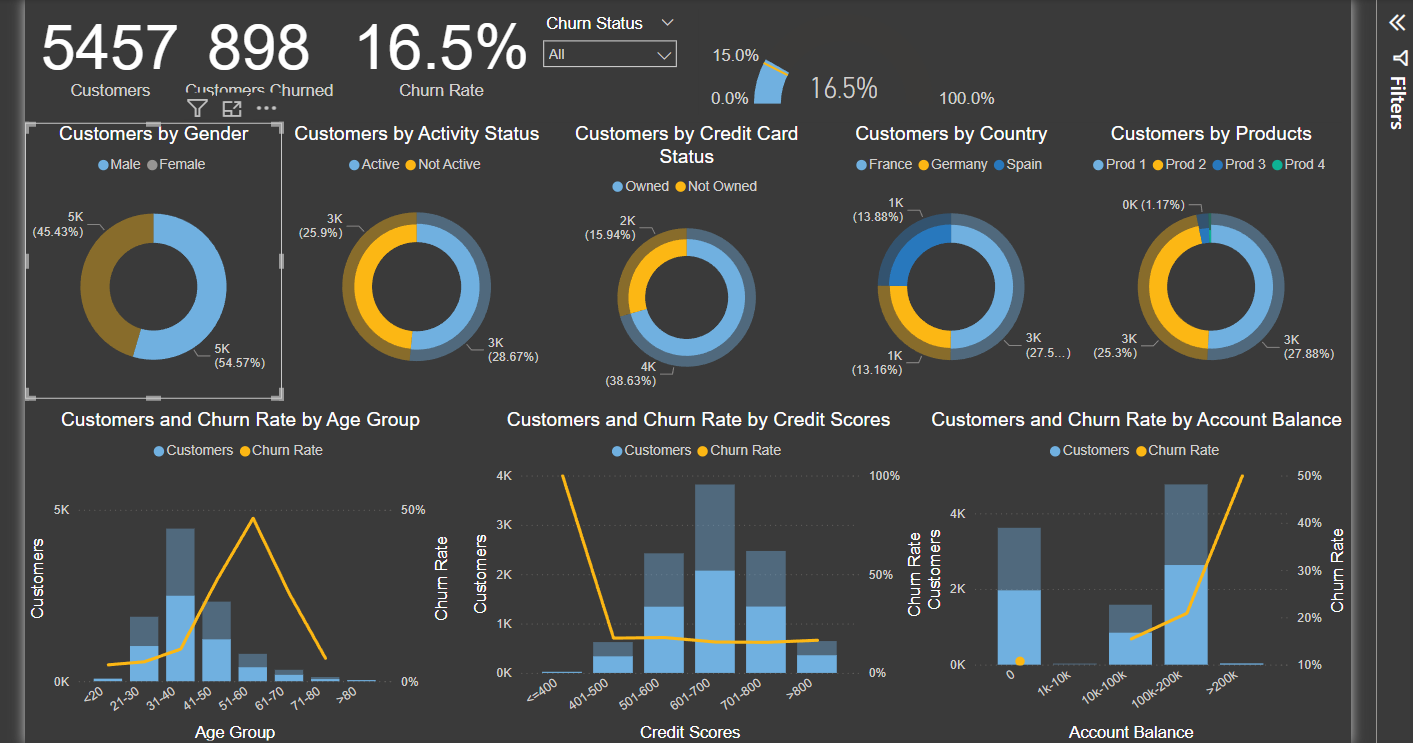

The page's visual inventory and layout, read from the dashboard file:
{"tool":"powerbi","page":{"name":"Page 1","canvas":[1280,720],"ordinal":0},"visuals":[{"type":"card","fields":{"Values":["Customer Data.Customers"]},"box":[9.8,0,145.5,101.5],"z":0},{"type":"card","fields":{"Values":["Customer Data.Customers Churned"]},"box":[146.8,0,157.8,101.5],"z":1},{"type":"card","fields":{"Values":["Customer Data.Churn Rate"]},"box":[304.6,0,193.5,101.5],"z":2},{"type":"donutChart","fields":{"Category":["Customer Data.Gender"],"Y":["Customer Data.Customers"]},"box":[0,119.4,248.4,266.2],"z":3},{"type":"donutChart","fields":{"Y":["Customer Data.Customers"],"Category":["Customer Data.Activity Status"]},"box":[248.4,119.4,259.3,266.2],"z":4},{"type":"donutChart","fields":{"Y":["Customer Data.Customers"],"Category":["Customer Data.Credit Card Status"]},"box":[509.1,119.4,259.3,266.2],"z":5},{"type":"donutChart","fields":{"Y":["Customer Data.Customers"],"Category":["Customer Data.Country"]},"box":[768.4,119.4,251.1,266.2],"z":6},{"type":"donutChart","fields":{"Y":["Customer Data.Customers"],"Category":["Customer Data.Products"]},"box":[1019.6,119.4,251.1,266.2],"z":7},{"type":"lineClusteredColumnComboChart","fields":{"Category":["Age Group ID.Age Group"],"Y":["Customer Data.Customers"],"Y2":["Customer Data.Churn Rate"]},"box":[0,395.2,415.8,325.2],"z":8},{"type":"lineClusteredColumnComboChart","fields":{"Y":["Customer Data.Customers"],"Y2":["Customer Data.Churn Rate"],"Category":["Credit Scores ID.Credit Scores"]},"box":[426.8,395.2,446,325.2],"z":9},{"type":"lineClusteredColumnComboChart","fields":{"Y":["Customer Data.Customers"],"Y2":["Customer Data.Churn Rate"],"Category":["Acct Balance ID.Account Balance"]},"box":[864.5,395.2,415.8,325.2],"z":10},{"type":"slicer","fields":{"Values":["Customer Data.Churn Status"]},"box":[489.9,9.6,149.6,91.9],"z":11},{"type":"gauge","fields":{"Y":["Customer Data.Churn Rate"],"MinValue":["Min(Customer Data.Minimum Churn Rate)"],"MaxValue":["Max(Customer Data.Maximum Churn Rate)"],"TargetValue":["Min(Customer Data.Target Churn Rate)"]},"box":[650.4,9.6,297.8,101.5],"z":12}]}

Visuals, with their boxes in screenshot pixels (x1, y1, x2, y2):
card - Customer Data.Customers: 0,18,114,122
card - Customer Data.Customers Churned: 105,18,266,122
card - Customer Data.Churn Rate: 266,18,463,122
donutChart - Customer Data.Gender x Customer Data.Customers: 0,140,209,411
donutChart - Customer Data.Customers x Customer Data.Activity Status: 209,140,473,411
donutChart - Customer Data.Customers x Customer Data.Credit Card Status: 474,140,738,411
donutChart - Customer Data.Customers x Customer Data.Country: 738,140,994,411
donutChart - Customer Data.Customers x Customer Data.Products: 994,140,1250,411
lineClusteredColumnComboChart - Age Group ID.Age Group x Customer Data.Customers: 0,421,379,742
lineClusteredColumnComboChart - Customer Data.Customers x Customer Data.Churn Rate: 390,421,844,742
lineClusteredColumnComboChart - Customer Data.Customers x Customer Data.Churn Rate: 836,421,1259,742
slicer - Customer Data.Churn Status: 455,28,607,122
gauge - Customer Data.Churn Rate x Min(Customer Data.Minimum Churn Rate): 618,28,921,132
